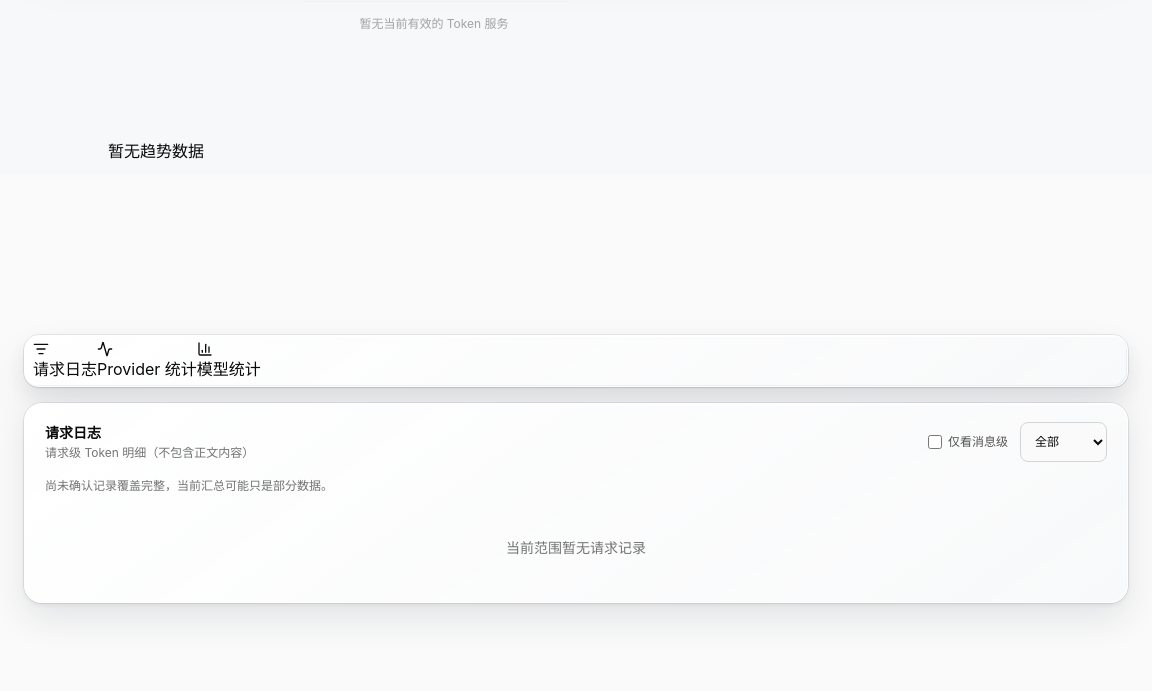
Test: SpendUsagePage (v2.0 IA split) › model tab renders ModelUsageTable with hook data
(page scrolled)
Step 1. Click the tab "模型统计" → {"x": 229, "y": 361}, box [197,341,261,381]
(page scrolled)
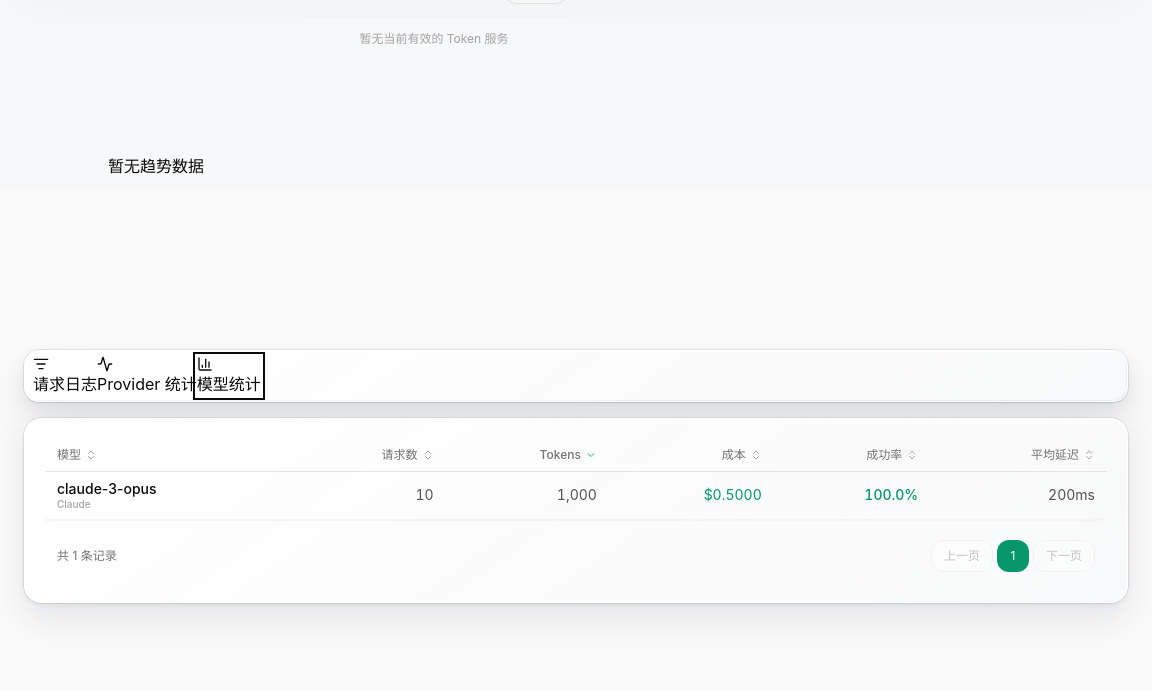
expect the text "claude-3-opus" is shown: met, box [57,480,156,497]
